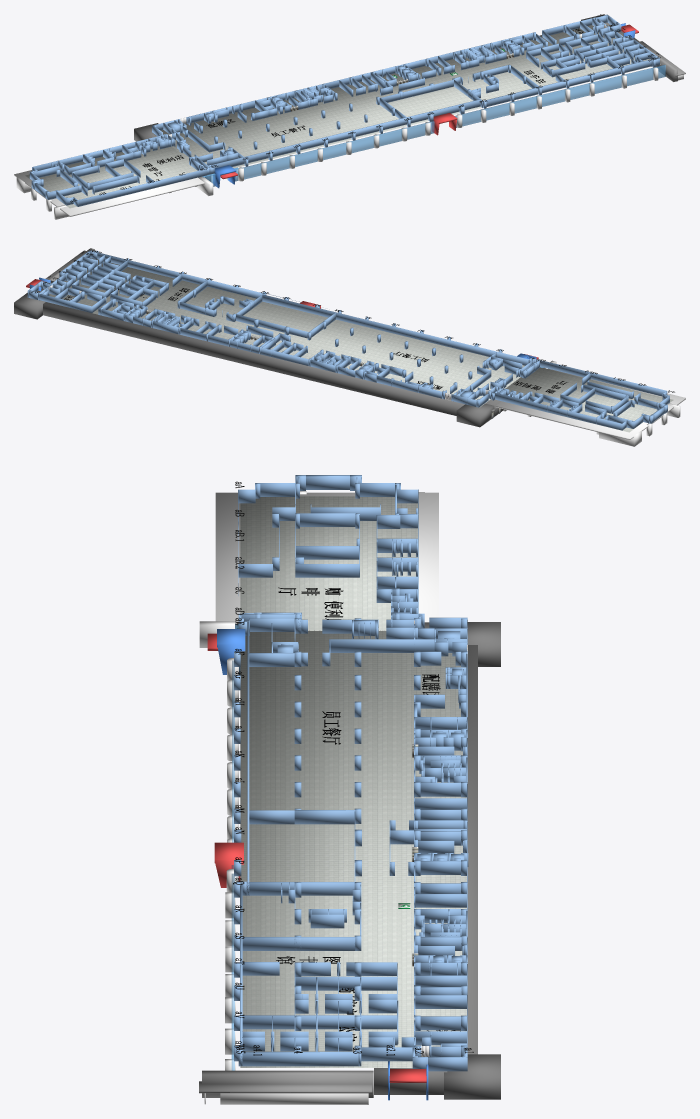
Rendered from ob_2f_mini.gltf.
3 views of the same model, one above another, from view 1: azimuth 30°, elevation 25°; view 2: azimuth 150°, elevation 25°; view 3: azimuth 270°, elevation 25° (orthographic). The views are drawn at different scales.
Visible parts, largest first — view 1: ob_qiang_2f, ob_dimian_2f, ob_waiguan_2f_34, ob_waiguan_2f_21, ob_waiguan_2f_24, ob_waiguan_2f_67; view 2: ob_qiang_2f, ob_dimian_2f, ob_waiguan_2f_25, ob_waiguan_2f_24, ob_waiguan_2f_68, ob_waiguan_2f_42, ob_waiguan_2f_28; view 3: ob_dimian_2f, ob_qiang_2f, ob_waiguan_2f_24, ob_waiguan_2f_25, ob_waiguan_2f_67, ob_waiguan_2f_42, ob_waiguan_2f_41, ob_waiguan_2f_38, ob_waiguan_2f_68, ob_waiguan_2f_55.
Boxes of the visible parts, box(x1,y1,x2,y2) form: ob_qiang_2f: box(29, 14, 659, 206); ob_dimian_2f: box(25, 23, 660, 208); ob_waiguan_2f_34: box(455, 65, 665, 127); ob_waiguan_2f_21: box(241, 121, 434, 179); ob_waiguan_2f_24: box(14, 170, 204, 216); ob_waiguan_2f_67: box(633, 38, 677, 81); ob_qiang_2f: box(27, 250, 669, 430); ob_dimian_2f: box(41, 258, 673, 432); ob_waiguan_2f_25: box(43, 302, 464, 415); ob_waiguan_2f_24: box(495, 368, 685, 439); ob_waiguan_2f_68: box(456, 403, 494, 427); ob_waiguan_2f_42: box(14, 293, 45, 319); ob_waiguan_2f_28: box(599, 431, 641, 446); ob_dimian_2f: box(240, 496, 466, 1067); ob_qiang_2f: box(234, 475, 468, 1071); ob_waiguan_2f_24: box(215, 492, 438, 622); ob_waiguan_2f_25: box(467, 645, 477, 1054); ob_waiguan_2f_67: box(202, 1070, 373, 1097); ob_waiguan_2f_42: box(444, 1054, 500, 1099); ob_waiguan_2f_41: box(220, 1093, 368, 1104); ob_waiguan_2f_38: box(199, 1081, 372, 1093); ob_waiguan_2f_68: box(467, 622, 500, 666); ob_waiguan_2f_55: box(374, 1068, 447, 1094).
Size of the model in its own units: 391 by 11.94 by 83.63.
Materials: 22 (10 with a texture image).
